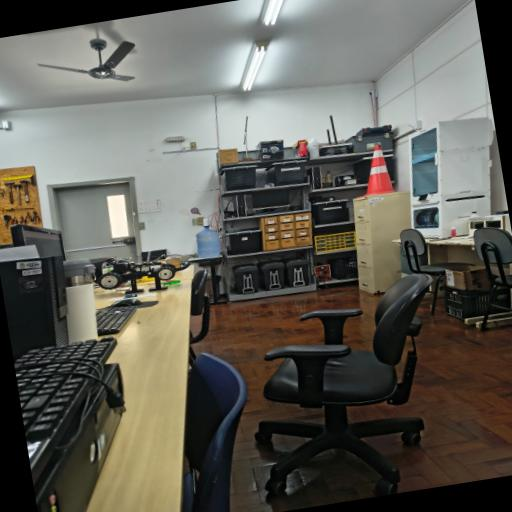cone: (350, 138, 400, 206)
